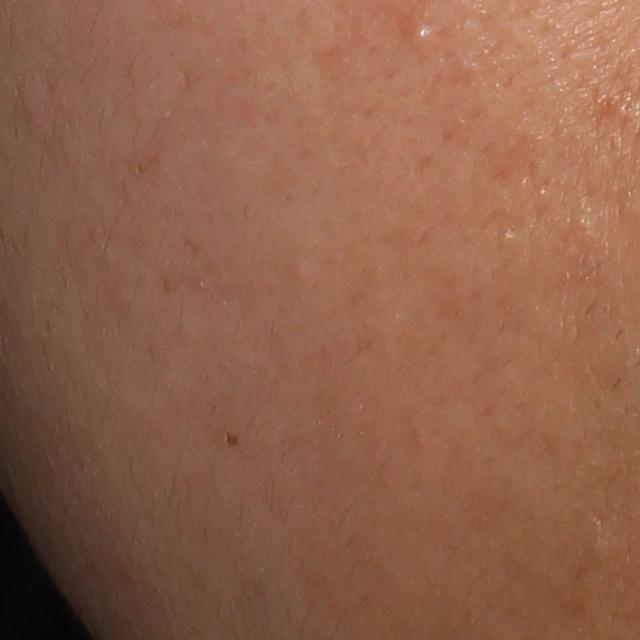comedo: (288, 257, 310, 285), (409, 22, 434, 45), (498, 225, 519, 246)
